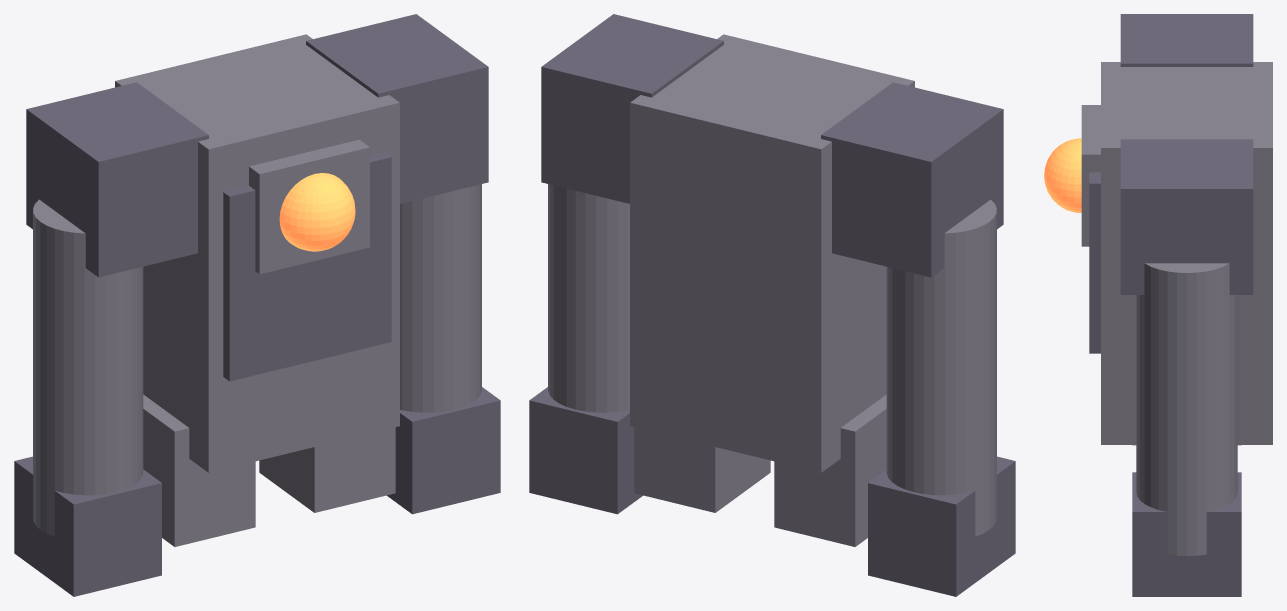
File: stone_titan.glb
3 renders of one model, left to right at view 1: azimuth 30°, elevation 25°; view 2: azimuth 150°, elevation 25°; view 3: azimuth 270°, elevation 25°, orthographic. The views are drawn at different scales.
Visible parts, largest first — view 1: Torso, Arm_L, Shoulder_L, ChestPlate, Shoulder_R, Arm_R, Fist_L, Fist_R, Leg_L, Head, Leg_R, LaserEye; view 2: Torso, Arm_L, Shoulder_L, Shoulder_R, Arm_R, Fist_L, Fist_R, Leg_L, Leg_R; view 3: Torso, Arm_R, Shoulder_R, Fist_R, Shoulder_L, LaserEye, ChestPlate, Head.
Boxes of the visible parts, <box> form: Torso: <box>115,34,399,472</box>; Arm_L: <box>33,199,143,536</box>; Shoulder_L: <box>26,82,208,277</box>; ChestPlate: <box>223,152,391,381</box>; Shoulder_R: <box>306,14,488,203</box>; Arm_R: <box>400,184,481,412</box>; Fist_L: <box>14,456,161,596</box>; Fist_R: <box>387,387,500,514</box>; Leg_L: <box>143,394,255,546</box>; Head: <box>249,139,369,274</box>; Leg_R: <box>259,427,395,512</box>; LaserEye: <box>279,173,355,251</box>; Torso: <box>630,34,914,472</box>; Arm_L: <box>886,199,996,536</box>; Shoulder_L: <box>821,82,1003,277</box>; Shoulder_R: <box>541,14,723,203</box>; Arm_R: <box>548,184,629,412</box>; Fist_L: <box>868,456,1015,596</box>; Fist_R: <box>529,387,642,514</box>; Leg_L: <box>774,394,886,546</box>; Leg_R: <box>634,427,770,512</box>; Torso: <box>1101,62,1272,444</box>; Arm_R: <box>1136,263,1237,556</box>; Shoulder_R: <box>1120,139,1253,294</box>; Fist_R: <box>1132,472,1241,596</box>; Shoulder_L: <box>1120,14,1253,66</box>; LaserEye: <box>1044,138,1081,213</box>; ChestPlate: <box>1089,172,1100,353</box>; Head: <box>1081,105,1100,246</box>.
Size of the model in its own units: 5.9 by 5.65 by 2.93.
